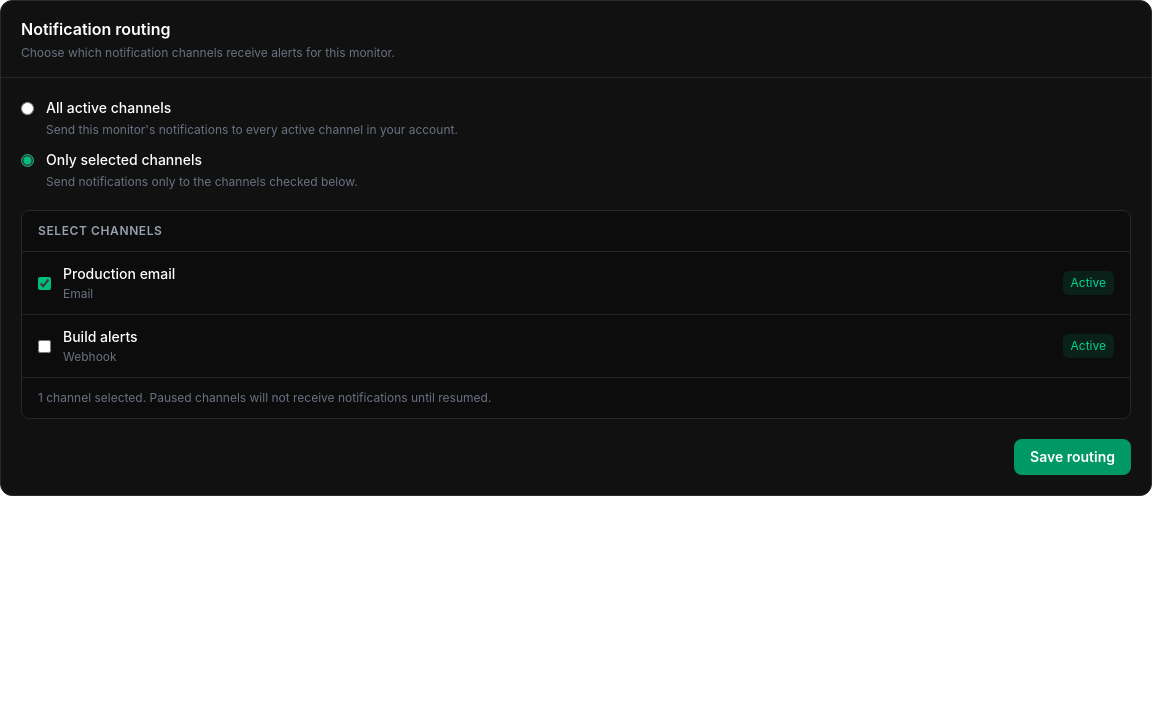
Scenario: MonitorNotificationRouting › saves the selected channel IDs
What coordinates should you click on to do the following:
click the checkbox labelled "Build alerts Webhook Active"
I would click on:
 (44, 346)
Its box is [38,340,51,352].
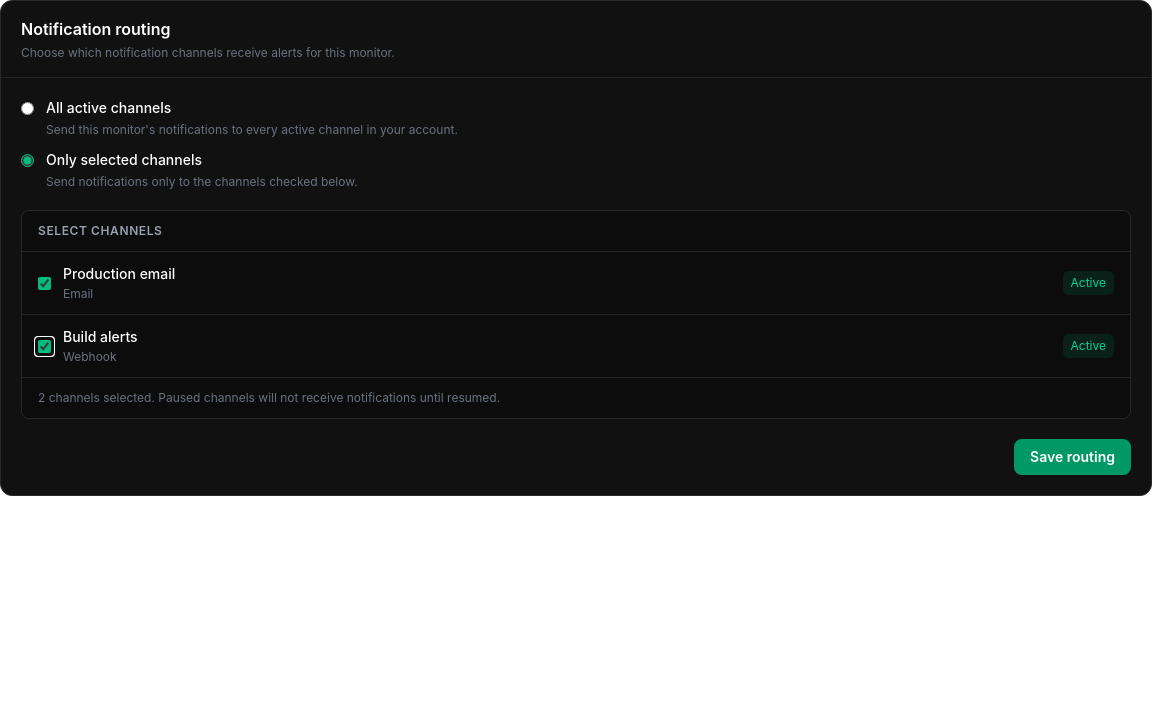
What coordinates should you click on to do the following:
click the button "Save routing"
I would click on:
 (1072, 457)
Its box is [1014,439,1131,475].
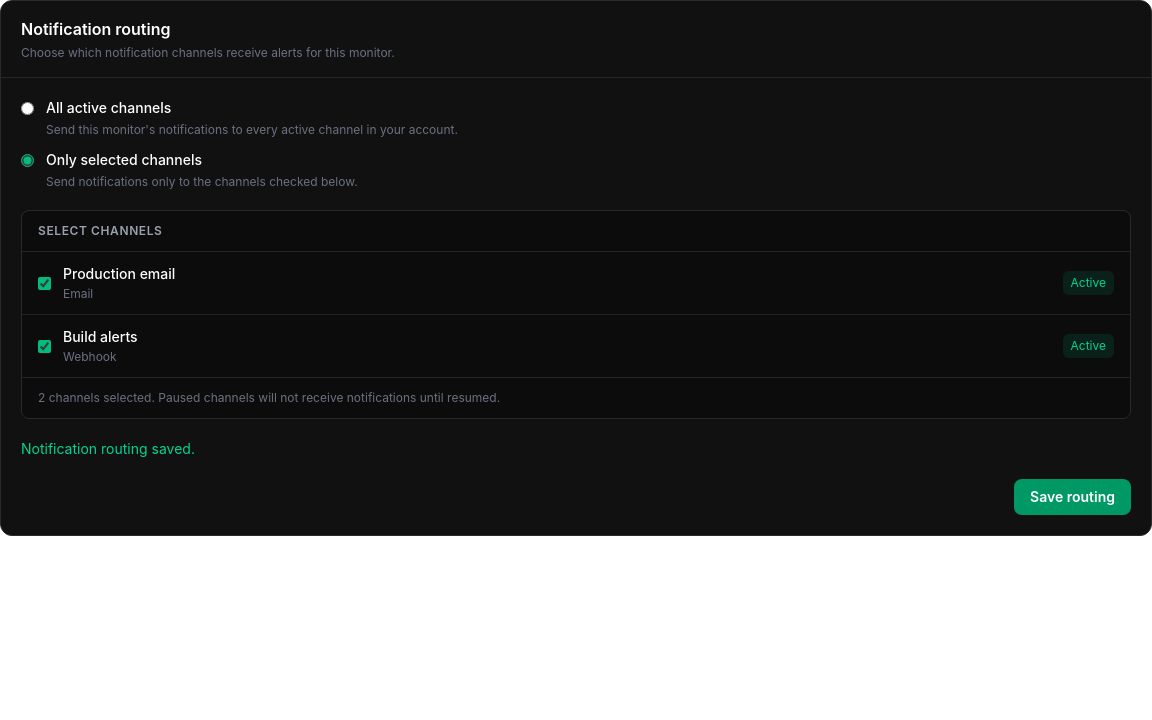
Result: the message reads "Notification routing saved." at [21,440,195,457]
